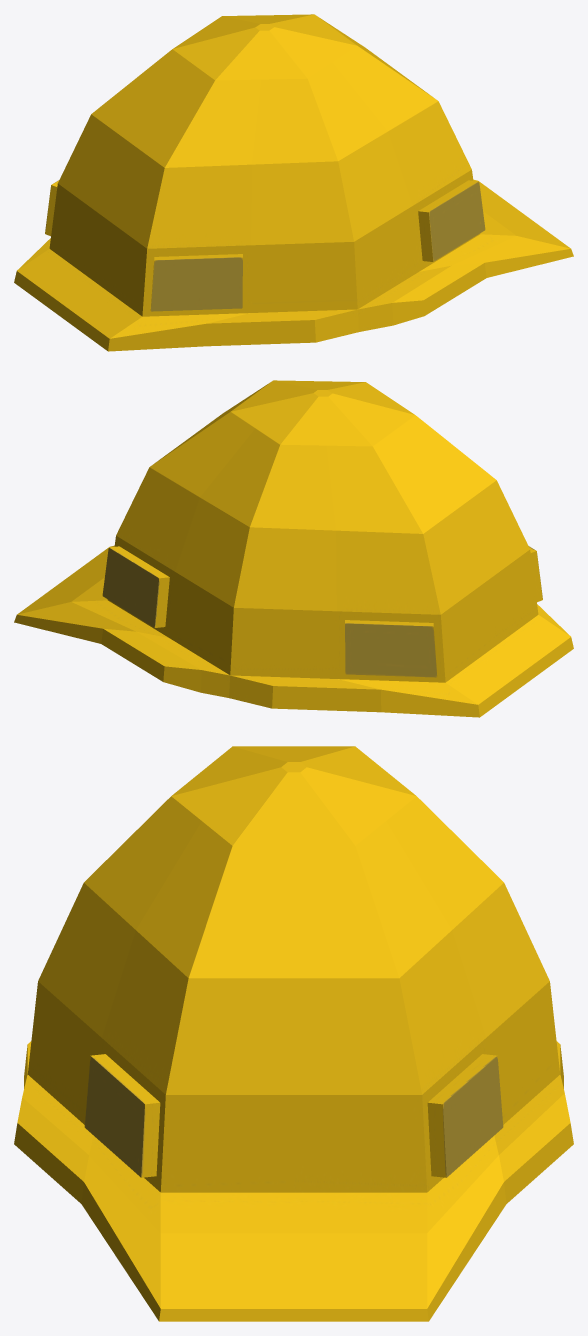
File: casco amarillo.fbx
The picture shows the model from 3 angles, top to bottom: view 1: azimuth 30°, elevation 25°; view 2: azimuth 150°, elevation 25°; view 3: azimuth 270°, elevation 25°; orthographic projection. The views are drawn at different scales.
Parts seen in each view (by area): view 1: Sphere; view 2: Sphere; view 3: Sphere.
Boxes of the visible parts, box(x1,y1,x2,y2) form: Sphere: box(14, 14, 573, 351); Sphere: box(14, 380, 573, 717); Sphere: box(14, 746, 573, 1321).
Size of the model in its own units: 132 by 70 by 95.77.
Materials: 1 (1 with a texture image).
